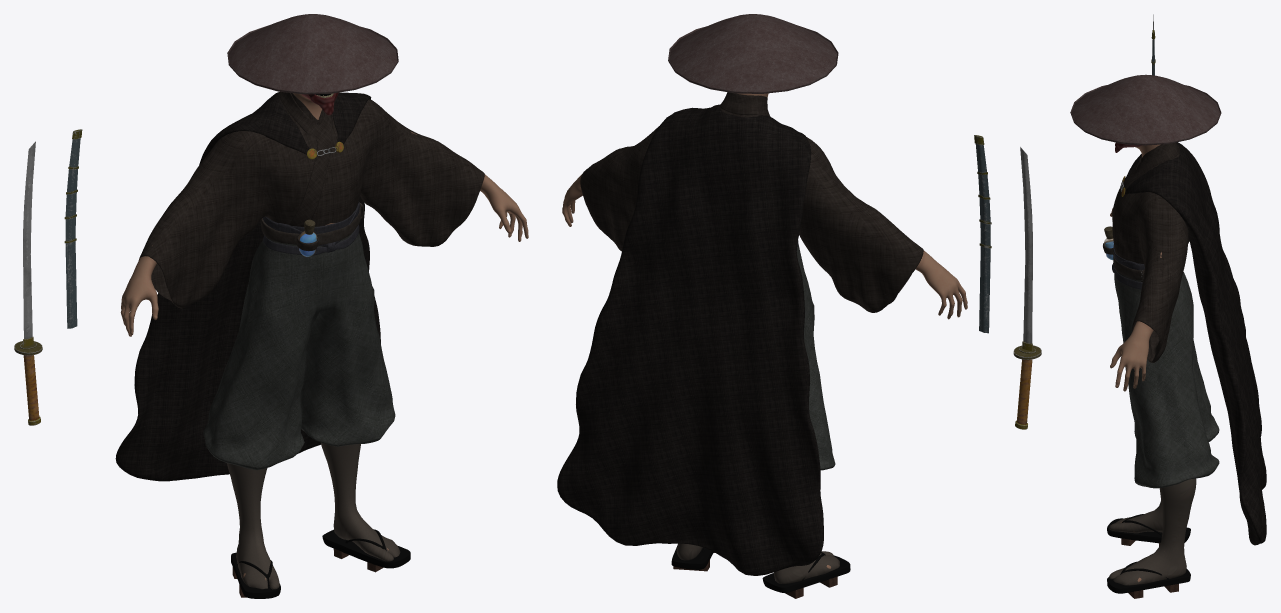
The model's file is samurai_character.glb.
3 views of the same model, side by side, from view 1: azimuth 30°, elevation 25°; view 2: azimuth 150°, elevation 25°; view 3: azimuth 270°, elevation 25° (orthographic). The views are drawn at different scales.
Parts seen in each view (by area): view 1: Lompa_low, Parte_Arriba_low, Capa_low, Sombrero_low, Medias_low, Katana_Guarda_low, Cuerpo_low, Calzado_low; view 2: Capa_low, Parte_Arriba_low, Sombrero_low, Katana_Guarda_low, Lompa_low, Cuerpo_low, Calzado_low, Medias_low; view 3: Capa_low, Lompa_low, Parte_Arriba_low, Sombrero_low, Medias_low, Calzado_low, Cuerpo_low.
Boxes of the visible parts, x1,y1,x2,y2 form: Lompa_low: [203, 201, 395, 470]; Parte_Arriba_low: [139, 92, 484, 308]; Capa_low: [115, 92, 380, 481]; Sombrero_low: [227, 14, 398, 94]; Medias_low: [227, 442, 400, 589]; Katana_Guarda_low: [14, 129, 82, 425]; Cuerpo_low: [120, 93, 528, 579]; Calzado_low: [231, 529, 410, 598]; Capa_low: [557, 104, 823, 575]; Parte_Arriba_low: [580, 92, 923, 312]; Sombrero_low: [668, 14, 838, 93]; Katana_Guarda_low: [974, 135, 1041, 429]; Lompa_low: [796, 234, 835, 470]; Cuerpo_low: [562, 93, 967, 568]; Calzado_low: [671, 544, 850, 598]; Medias_low: [676, 543, 839, 583]; Capa_low: [1120, 142, 1266, 545]; Lompa_low: [1103, 240, 1219, 488]; Parte_Arriba_low: [1112, 142, 1189, 362]; Sombrero_low: [1070, 74, 1221, 145]; Medias_low: [1109, 478, 1196, 585]; Calzado_low: [1107, 514, 1190, 598]; Cuerpo_low: [1110, 144, 1161, 582].
Size of the model in its own units: 4.06 by 4.41 by 1.6.
Materials: 12 (12 with a texture image).
